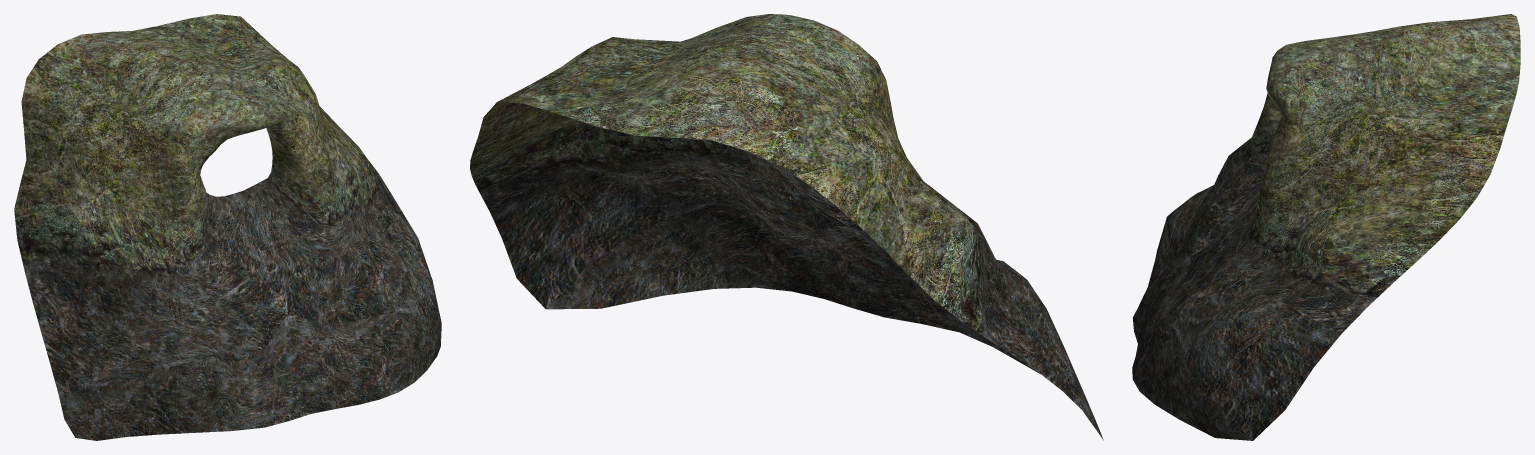
File: thm_all_cave_s02_damprock_r0_mesh_l0.fbx
The picture shows the model from 3 angles, left to right: view 1: azimuth 30°, elevation 25°; view 2: azimuth 150°, elevation 25°; view 3: azimuth 270°, elevation 25°; orthographic projection. The views are drawn at different scales.
Visible parts, largest first — view 1: mesh_node; view 2: mesh_node; view 3: mesh_node.
Part boxes in pixels (box(x1,y1,x2,y2)): mesh_node: box(14, 14, 441, 440); mesh_node: box(470, 14, 1103, 440); mesh_node: box(1132, 14, 1520, 440).
Size of the model in its own units: 48.97 by 34.28 by 39.36.
